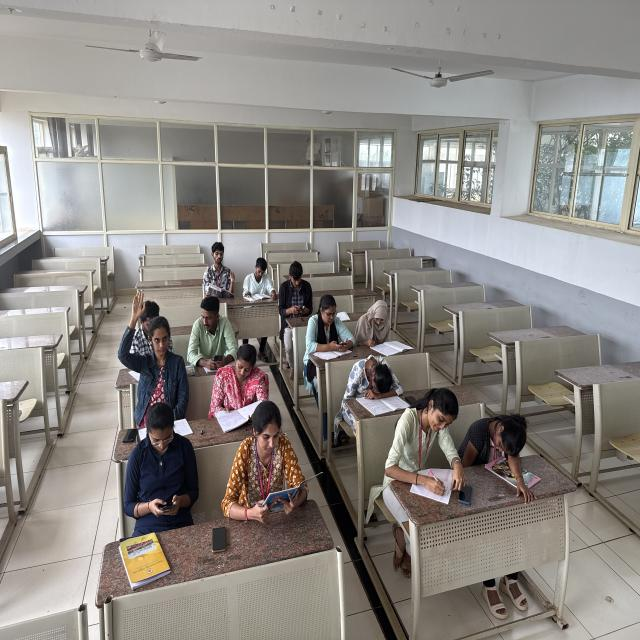Hand Rising: (110, 284, 187, 406)
Reading: (219, 398, 323, 530), (206, 342, 274, 426), (197, 238, 238, 303), (236, 255, 278, 311)
Sleeping: (465, 405, 538, 492), (334, 352, 410, 425)
Using Phone: (117, 402, 200, 526), (182, 291, 236, 381), (303, 292, 358, 359), (276, 258, 316, 333)
Writing: (386, 381, 468, 508), (352, 295, 414, 359)
